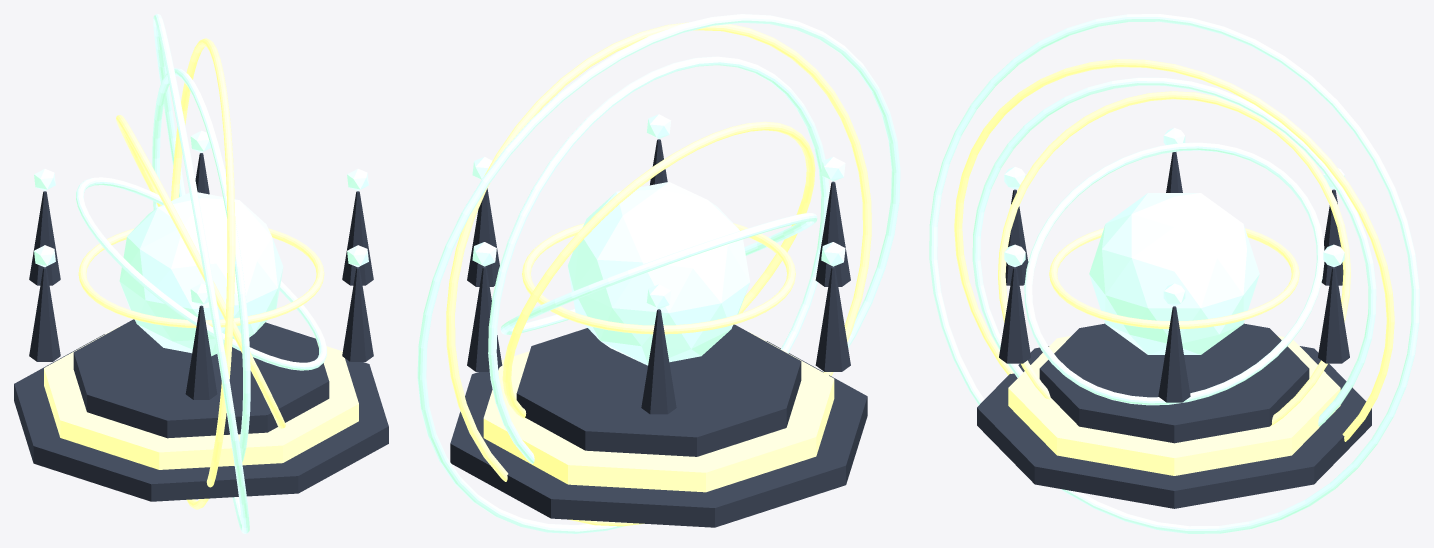
Rendered from gpu-blender-v39.glb.
The picture shows the model from 3 angles, left to right: view 1: azimuth 30°, elevation 25°; view 2: azimuth 150°, elevation 25°; view 3: azimuth 270°, elevation 25°; orthographic projection. The views are drawn at different scales.
Visible parts, largest first — view 1: Cylinder.002, Cylinder, SovereignCore_chain-of-thoughts, Cylinder.001, Torus.005, Torus.004, Torus.003, Torus.001, Torus, Torus.002, Cone.003, Cone.005 (+3 smaller); view 2: Cylinder.002, SovereignCore_chain-of-thoughts, Cylinder, Cylinder.001, Torus.005, Torus.004, Torus.003, Torus.002, Torus.001, Torus, Cone.002, Cone.003 (+3 smaller); view 3: SovereignCore_chain-of-thoughts, Cylinder.002, Cylinder, Cylinder.001, Torus.005, Torus.004, Torus.001, Torus.003, Torus.002, Torus, Cone, Cone.001 (+3 smaller).
Part boxes in pixels (x1,y1,x2,y2): Cylinder.002: (73,319,329,438); Cylinder: (14,334,388,501); SovereignCore_chain-of-thoughts: (119,192,283,356); Cylinder.001: (44,326,358,469); Torus.005: (153,14,249,533); Torus.004: (171,38,235,509); Torus.003: (152,68,250,461); Torus.001: (76,177,326,370); Torus: (78,228,324,327); Torus.002: (116,115,285,428); Cone.003: (29,267,60,361); Cone.005: (342,267,373,361); Cylinder.002: (516,324,801,456); SovereignCore_chain-of-thoughts: (568,182,749,365); Cylinder: (450,341,867,527); Cylinder.001: (483,332,834,492); Torus.005: (417,14,900,533); Torus.004: (446,22,871,526); Torus.003: (488,56,829,463); Torus.002: (502,121,815,418); Torus.001: (500,213,817,334); Torus: (522,223,795,334); Cone.002: (641,309,676,414); Cone.003: (815,267,850,371); SovereignCore_chain-of-thoughts: (1089,193,1259,354); Cylinder.002: (1039,323,1309,443); Cylinder: (977,346,1371,508); Cylinder.001: (1008,336,1340,475); Torus.005: (929,14,1419,533); Torus.004: (954,59,1394,441); Torus.001: (1024,142,1324,405); Torus.003: (972,77,1376,426); Torus.002: (998,91,1350,425); Torus: (1049,228,1299,328); Cone: (1158,306,1190,402); Cone.001: (1318,267,1349,363).
Bounding box in the file's own units: 4.41 × 5.93 × 5.46.
